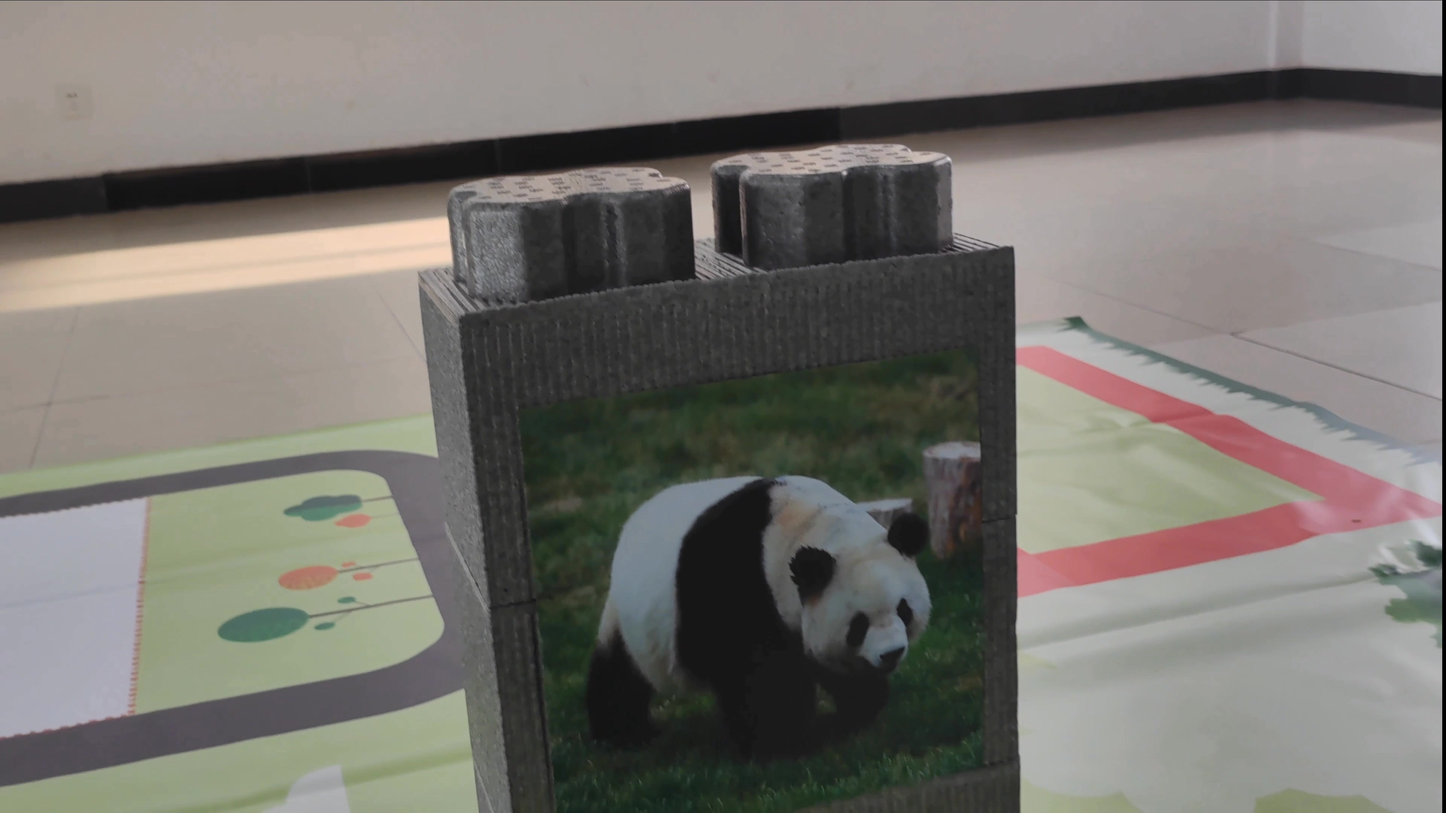panda: (570, 460, 953, 763)
